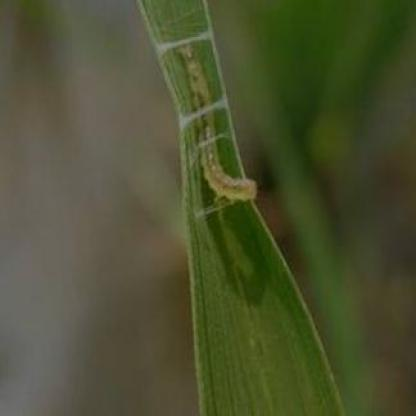leaf-folder: (169, 23, 272, 214)
